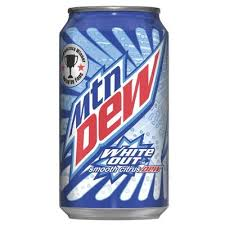can: (53, 1, 171, 222)
